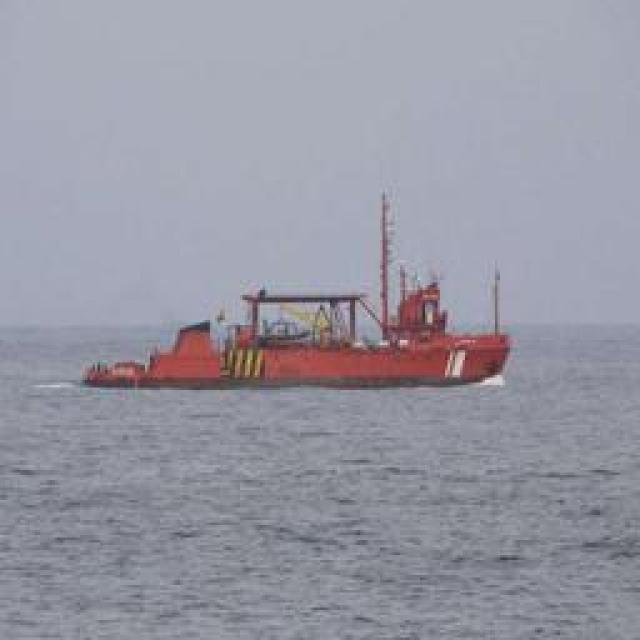CIV_Ship: (81, 250, 516, 392)
